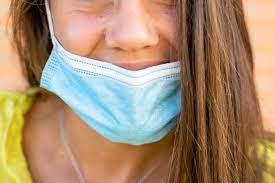WRONG: (47, 1, 217, 132)
